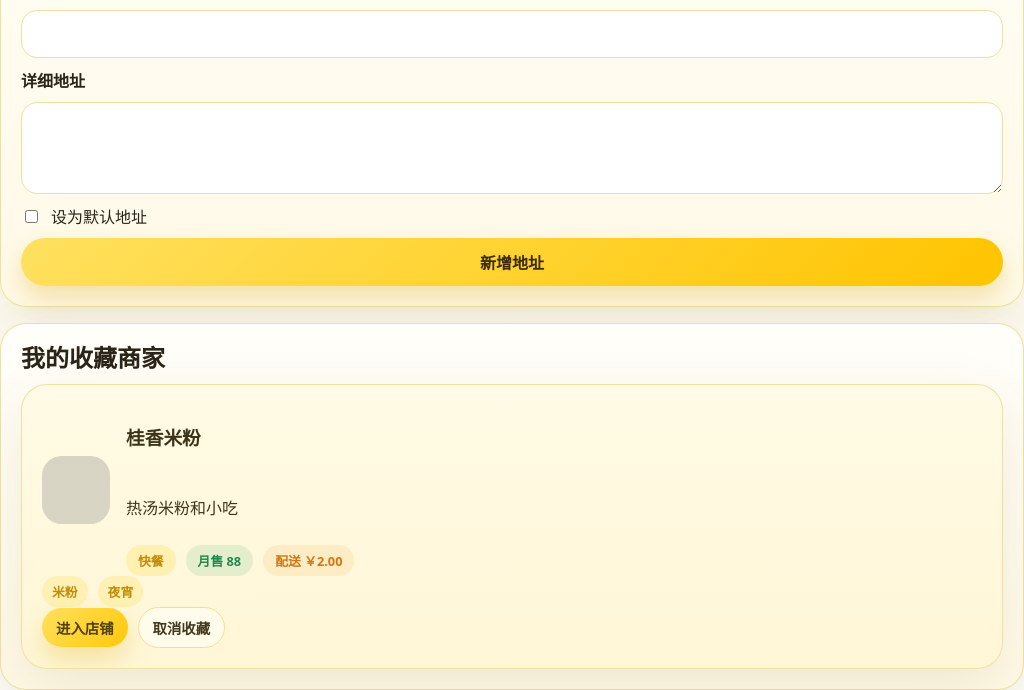
Test: Profile page › removes a favorite merchant from the list
(page scrolled)
Expected: the heading "桂香米粉" is shown, [126,425,201,450]
Click the button "取消收藏".
click(181, 628)  # box [138,607,225,648]
(page scrolled)
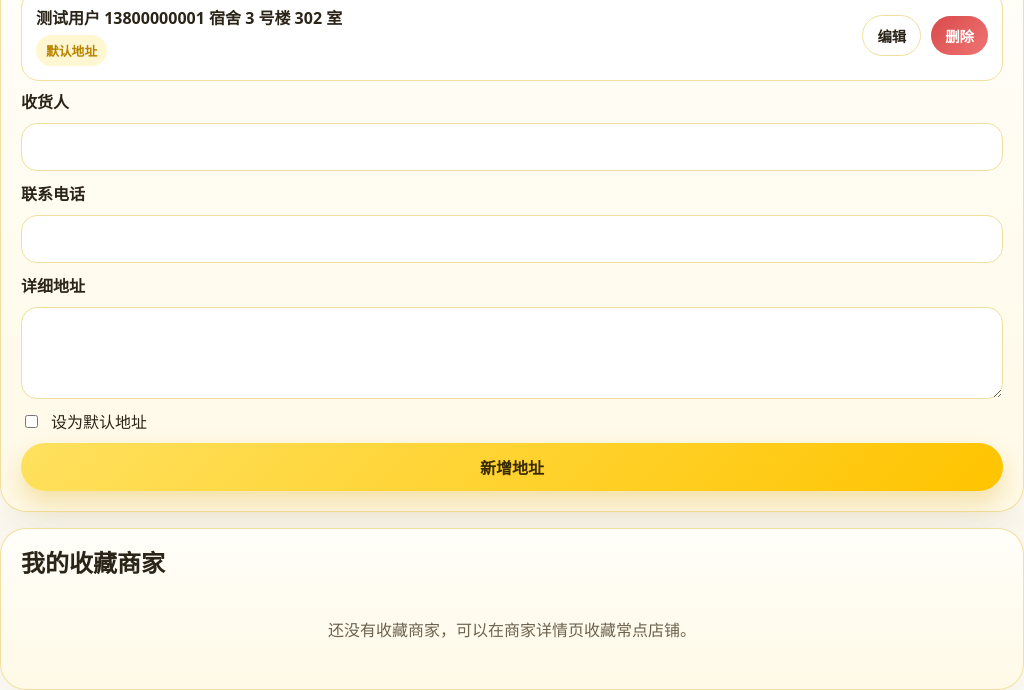
Expected: the heading "桂香米粉" is gone
